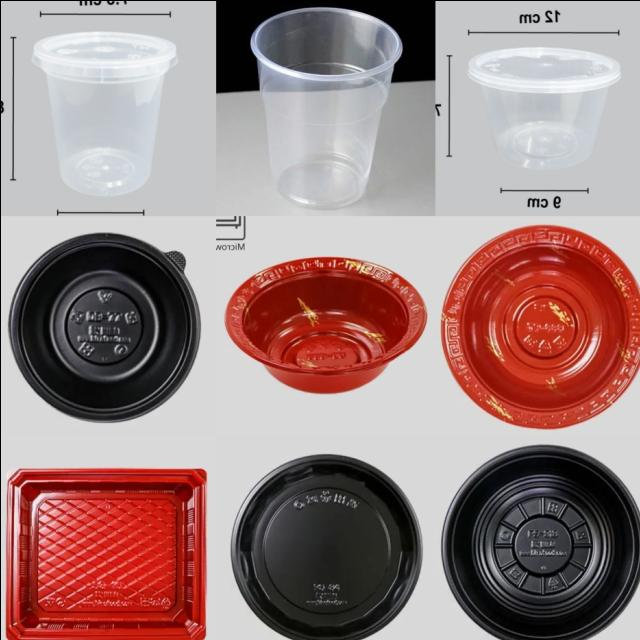plastik: (440, 225, 640, 427), (442, 444, 640, 640), (7, 234, 199, 420), (231, 453, 420, 640), (5, 467, 205, 640), (250, 7, 401, 207), (225, 257, 425, 392), (31, 31, 177, 195), (467, 46, 620, 169)
